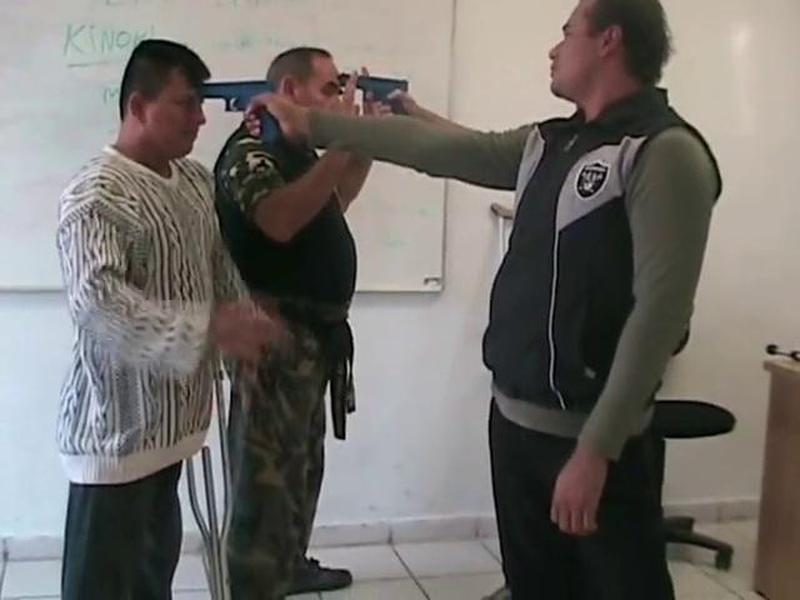Pistola: (186, 59, 298, 158), (326, 66, 422, 133)
